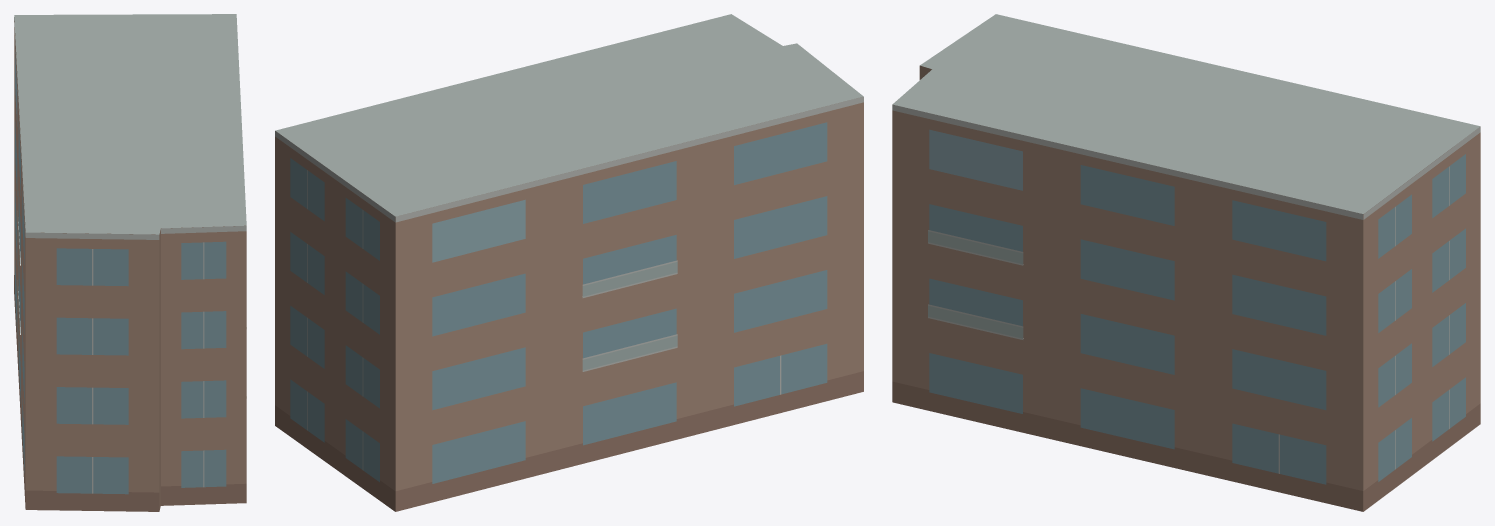
File: survey-upis-32704187.glb
The picture shows the model from 3 angles, left to right: view 1: azimuth 30°, elevation 25°; view 2: azimuth 150°, elevation 25°; view 3: azimuth 270°, elevation 25°; orthographic projection. The views are drawn at different scales.
Visible parts, largest first — view 1: survey-upis-32704187.tmp; view 2: survey-upis-32704187.tmp; view 3: survey-upis-32704187.tmp.
Boxes of the visible parts, x1,y1,x2,y2 form: survey-upis-32704187.tmp: (14,14,246,511); survey-upis-32704187.tmp: (275,14,863,511); survey-upis-32704187.tmp: (892,14,1480,511).
Bounding box in the file's own units: 17.74 × 12.3 × 22.04.
